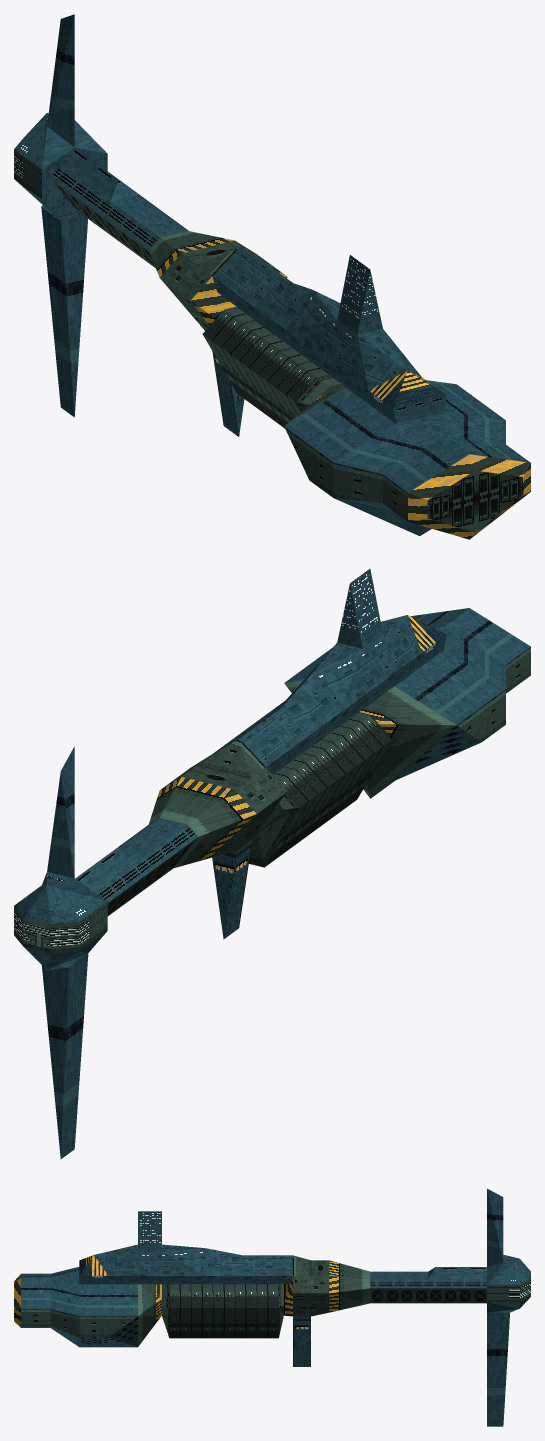
File: SM_ENV_ScienceVessel.fbx
3 views of the same model, one above another, from view 1: azimuth 30°, elevation 25°; view 2: azimuth 150°, elevation 25°; view 3: azimuth 270°, elevation 25° (orthographic). The views are drawn at different scales.
Parts seen in each view (by area): view 1: NSCIENCE_3, NSCIENCE_2, NSCIENCE_0, NSCIENCE_1, NSCIENCE_4; view 2: NSCIENCE_3, NSCIENCE_2, NSCIENCE_0, NSCIENCE_1, NSCIENCE_4; view 3: NSCIENCE_3, NSCIENCE_2, NSCIENCE_1, NSCIENCE_4, NSCIENCE_0.
Part boxes in pixels (<box>): NSCIENCE_3: <box>284,380,530,539</box>; NSCIENCE_2: <box>197,248,446,423</box>; NSCIENCE_0: <box>14,14,137,417</box>; NSCIENCE_1: <box>50,165,287,436</box>; NSCIENCE_4: <box>202,307,345,428</box>; NSCIENCE_3: <box>284,608,530,798</box>; NSCIENCE_2: <box>197,569,446,778</box>; NSCIENCE_0: <box>14,746,137,1159</box>; NSCIENCE_1: <box>75,756,287,939</box>; NSCIENCE_4: <box>249,712,392,867</box>; NSCIENCE_3: <box>14,1267,161,1347</box>; NSCIENCE_2: <box>79,1211,311,1284</box>; NSCIENCE_1: <box>284,1260,486,1366</box>; NSCIENCE_4: <box>162,1284,283,1338</box>; NSCIENCE_0: <box>428,1188,530,1426</box>.
Bounding box in the file's own units: 175 × 392 × 771.
